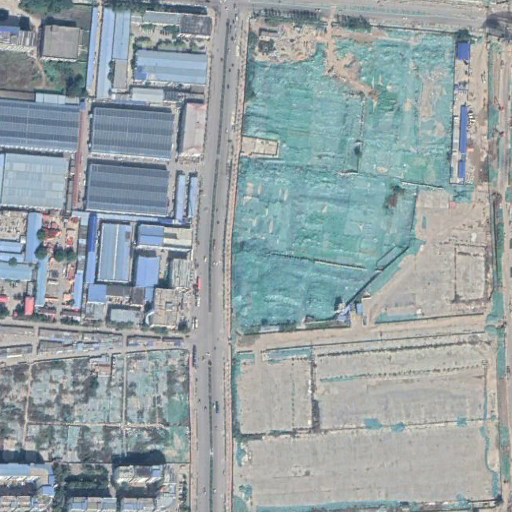cw: (232, 28, 456, 329), (4, 349, 190, 467)
